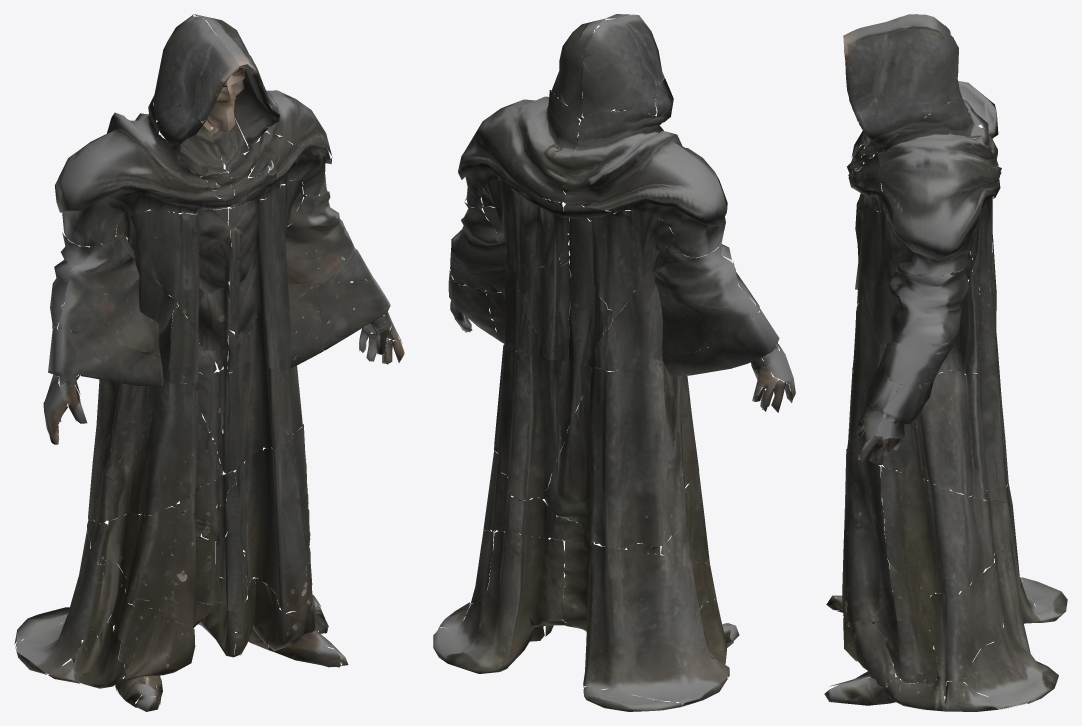
Rendered from leader.glb.
The picture shows the model from 3 angles, left to right: view 1: azimuth 30°, elevation 25°; view 2: azimuth 150°, elevation 25°; view 3: azimuth 270°, elevation 25°; orthographic projection. The views are drawn at different scales.
Visible parts, largest first — view 1: leader; view 2: leader; view 3: leader.
Boxes of the visible parts, x1,y1,x2,y2 form: leader: [14, 14, 404, 711]; leader: [433, 14, 795, 711]; leader: [824, 14, 1067, 711].
Size of the model in its own units: 1.06 by 1.85 by 0.6363.
Materials: 1 (1 with a texture image).
